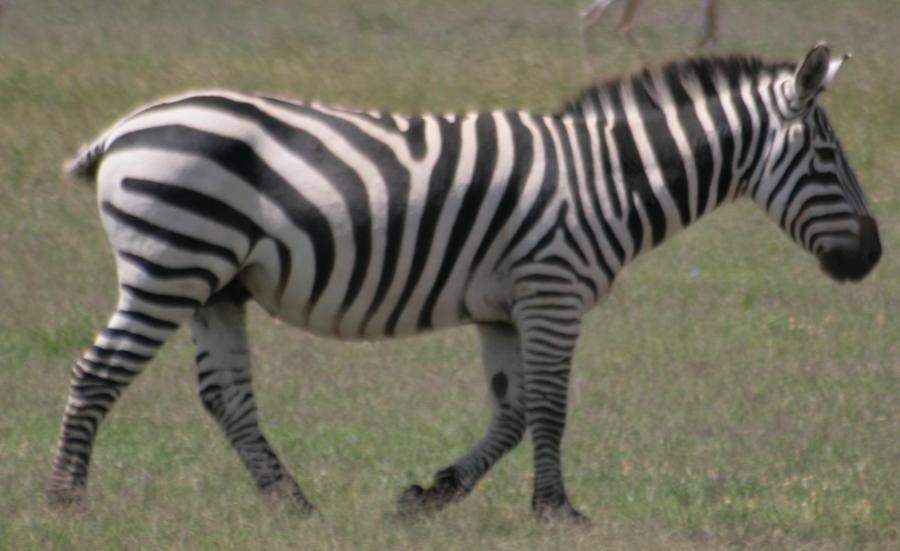zebra_plains: (76, 56, 629, 350)
